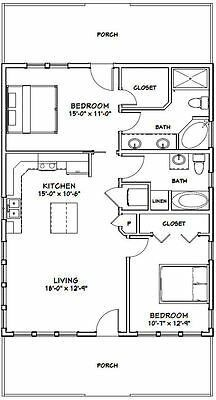door: (118, 150, 151, 184), (94, 306, 128, 339), (89, 66, 116, 95), (119, 109, 147, 136), (116, 85, 141, 109)
room: (5, 152, 133, 337), (2, 64, 214, 152), (117, 154, 216, 328)
wall: (114, 60, 214, 72), (120, 207, 216, 218), (1, 147, 96, 157), (119, 147, 211, 156), (2, 62, 8, 198), (124, 254, 133, 330), (207, 59, 216, 119), (207, 186, 216, 237), (208, 184, 214, 247), (209, 260, 216, 309), (2, 60, 28, 71), (69, 61, 91, 72), (208, 144, 215, 176), (78, 329, 98, 339), (121, 329, 138, 340), (208, 141, 213, 174), (2, 329, 14, 338), (201, 331, 215, 337)
window: (11, 329, 73, 337), (136, 330, 198, 338), (25, 61, 68, 71), (1, 244, 10, 261), (1, 310, 8, 327), (1, 262, 7, 280), (1, 284, 6, 301)
